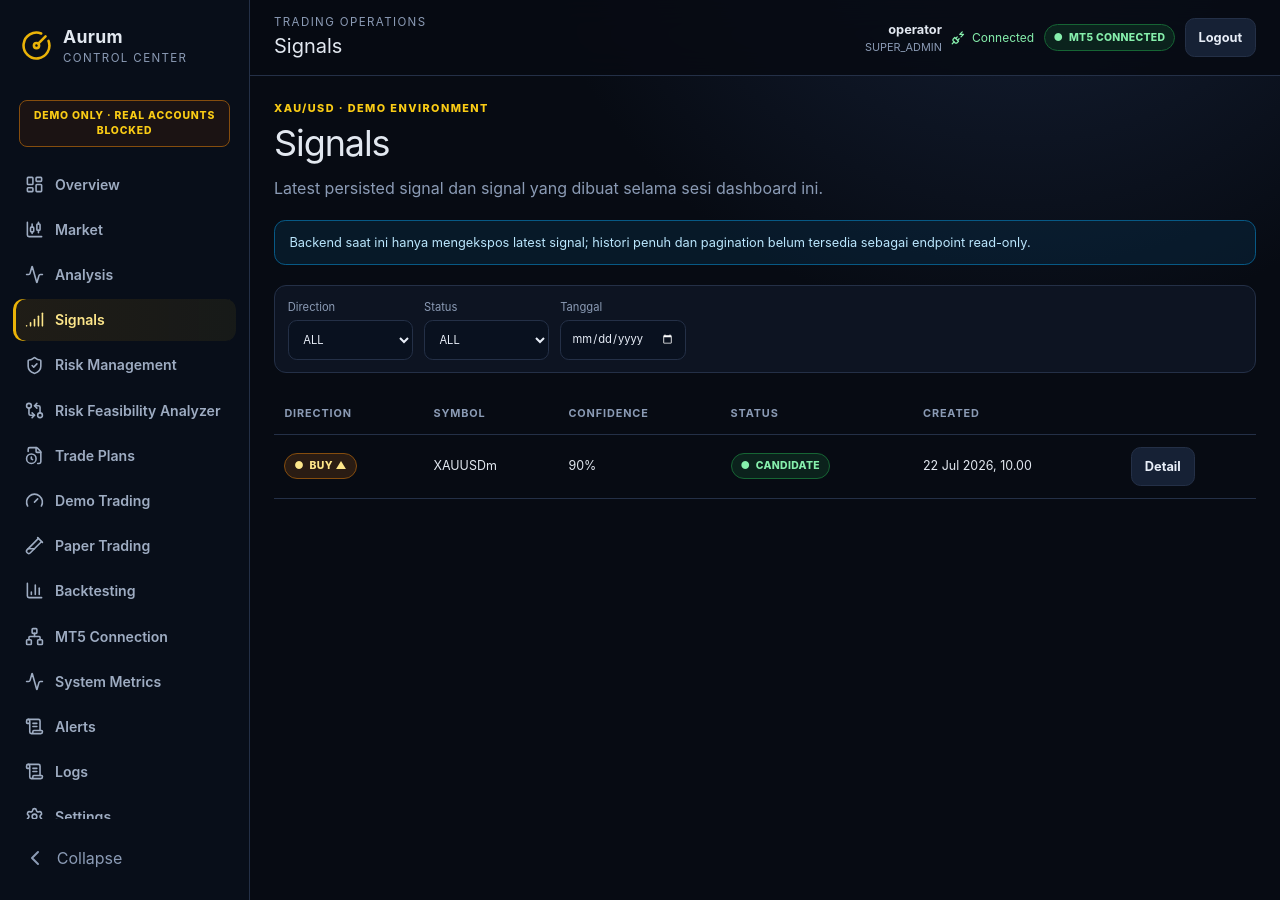
Test: dashboard shell and core rendering › renders signal direction, confidence, and reasons
Expected: the text "BUY ▲" is shown, [310, 459, 347, 472]
Expected: the text "90%" is shown, [558, 434, 720, 498]
Click the button "Detail": (1163,466) [1131, 447, 1195, 486]
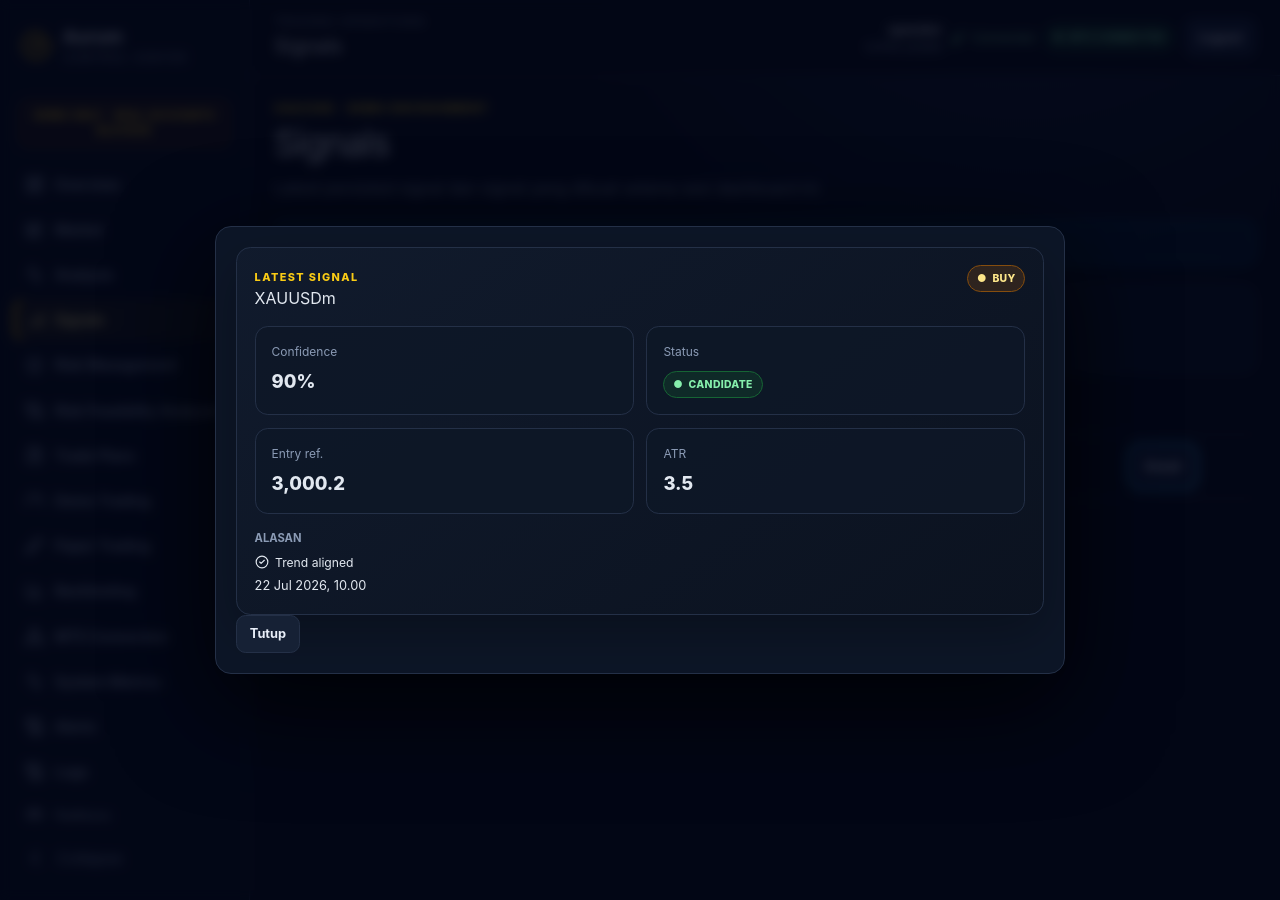
Expected: the text "Trend aligned" is shown, [255, 555, 354, 570]
